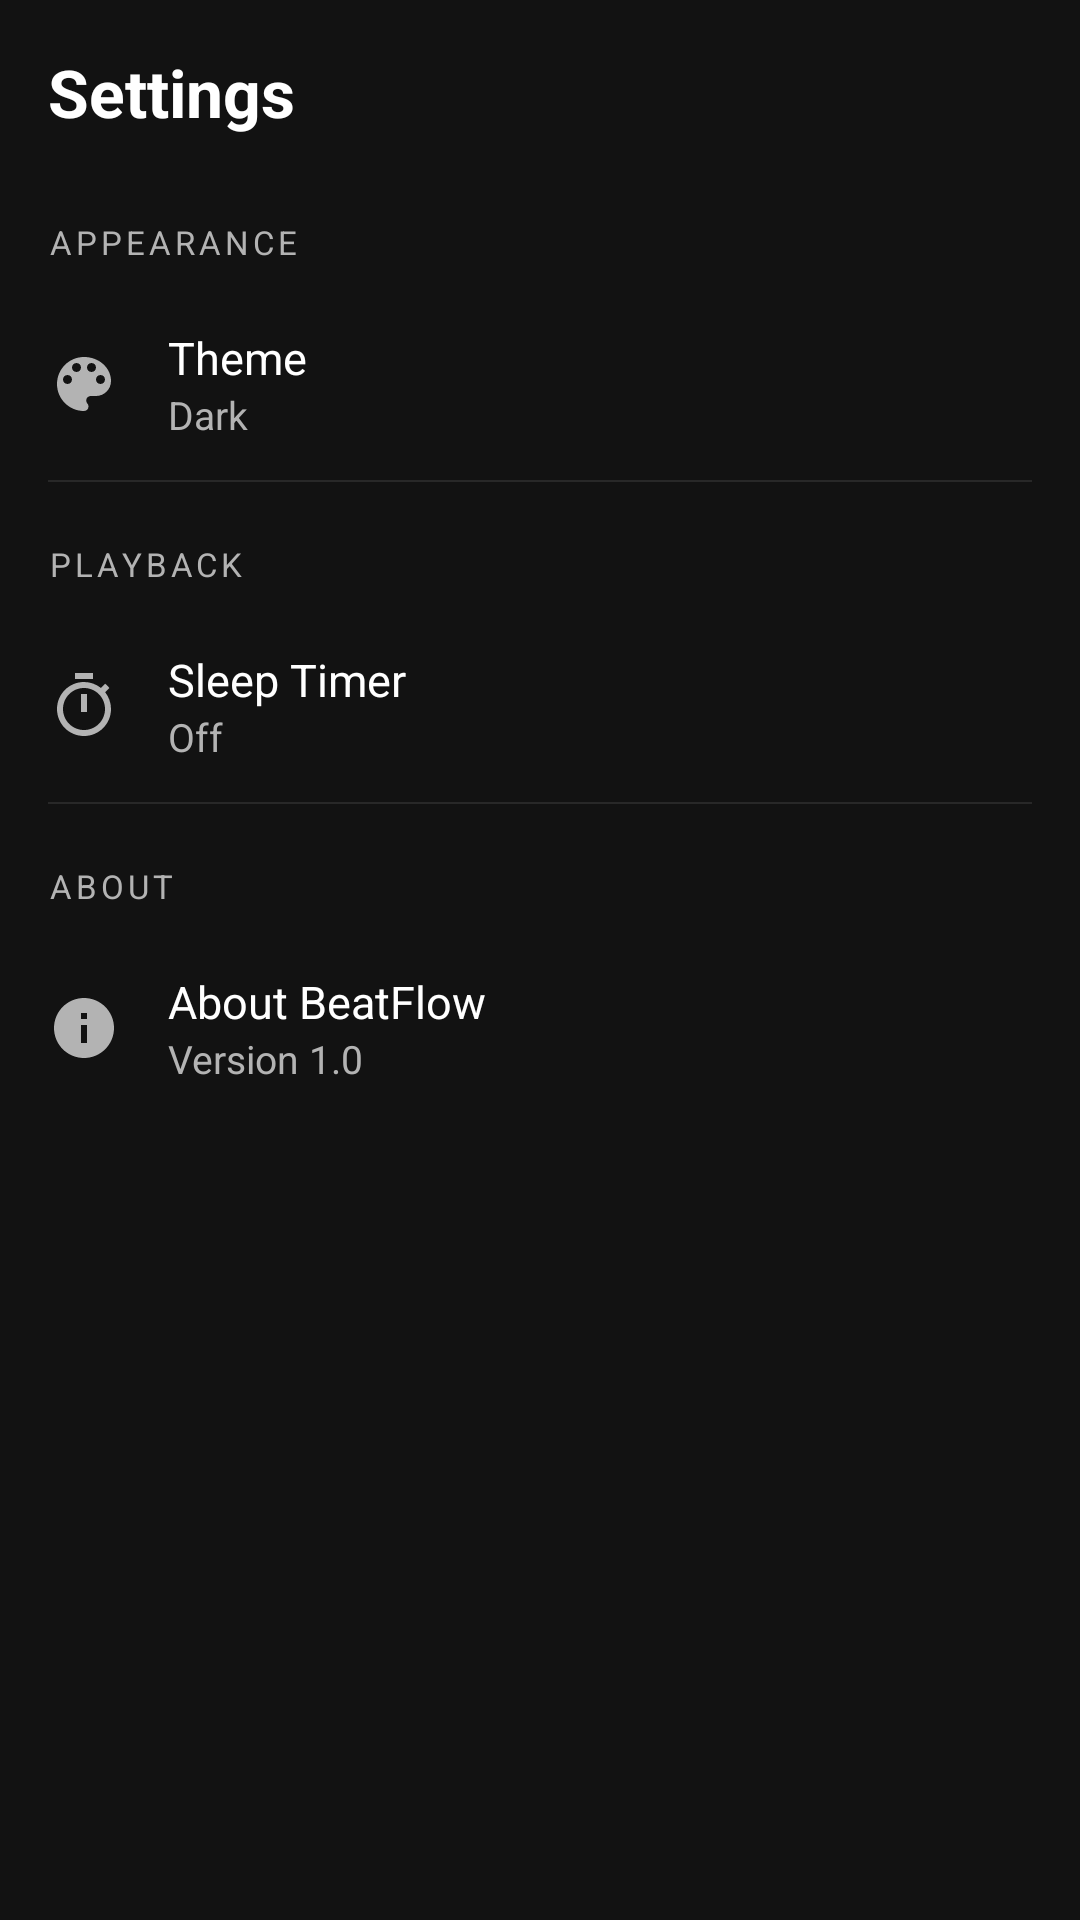

Named icons in this screenshot (1080w x 1920h) and their centers, [x,y]:
info: [84,1028]
palette: [84,384]
